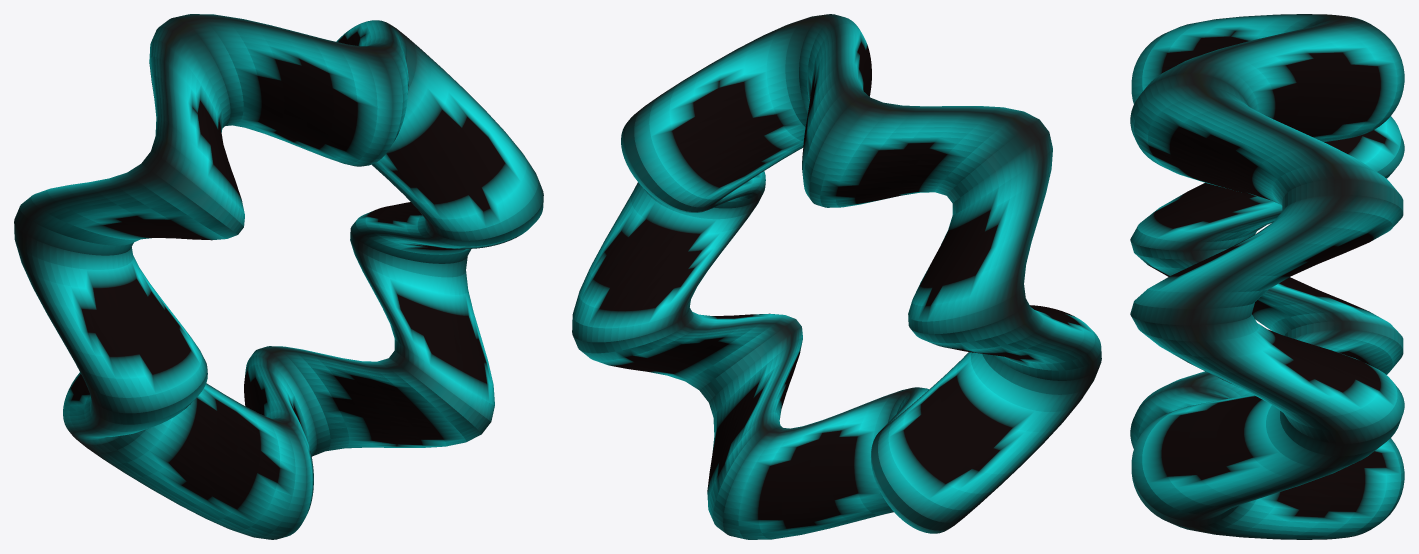
Rendered from step_18.glb.
3 renders of one model, left to right at view 1: azimuth 30°, elevation 25°; view 2: azimuth 150°, elevation 25°; view 3: azimuth 270°, elevation 25°, orthographic.
Visible parts, largest first — view 1: world; view 2: world; view 3: world.
Boxes of the visible parts, left/top/right/bottom form: world: left=14, top=14, right=543, bottom=539; world: left=572, top=14, right=1101, bottom=539; world: left=1130, top=14, right=1404, bottom=539.
Bounding box in the file's own units: 26 × 26 × 13.55.
